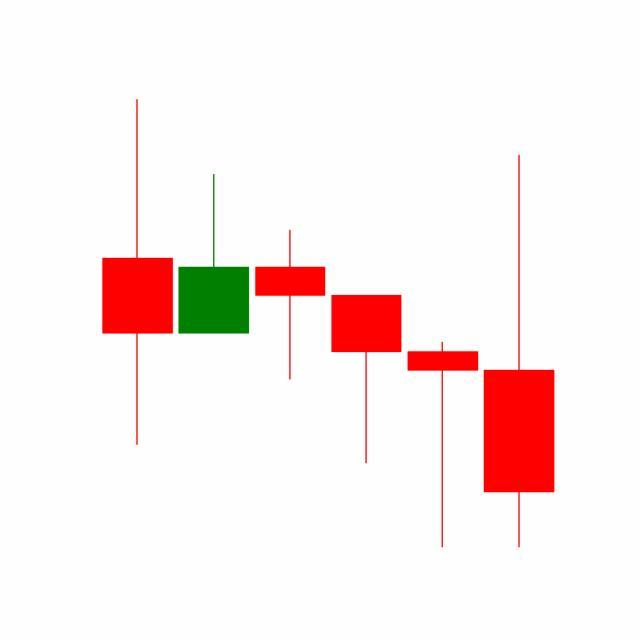Dragonfly Doji: (404, 340, 482, 550)
